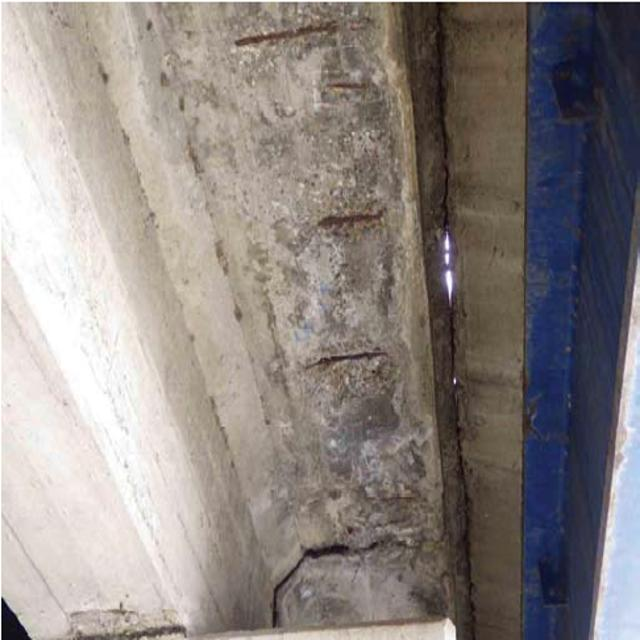spalling: (220, 14, 427, 539)
